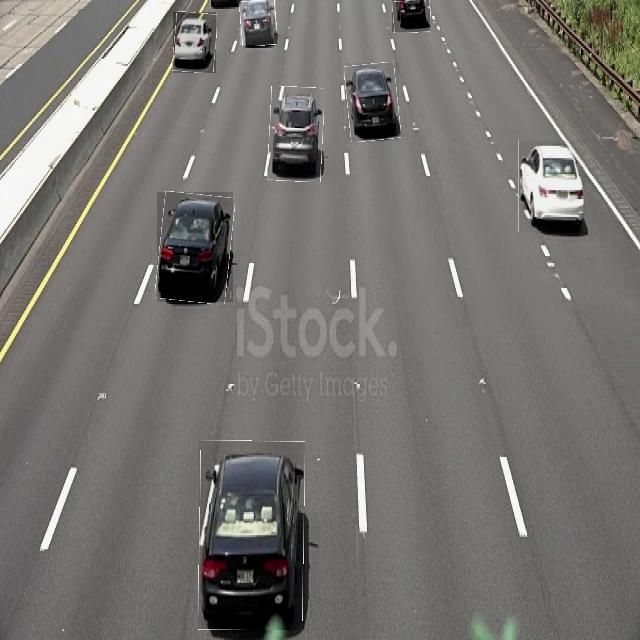Car: (199, 441, 305, 630), (157, 192, 233, 302), (518, 140, 585, 232), (268, 87, 323, 181), (346, 63, 399, 141), (173, 12, 216, 73), (240, 0, 276, 45), (392, 0, 430, 32)
